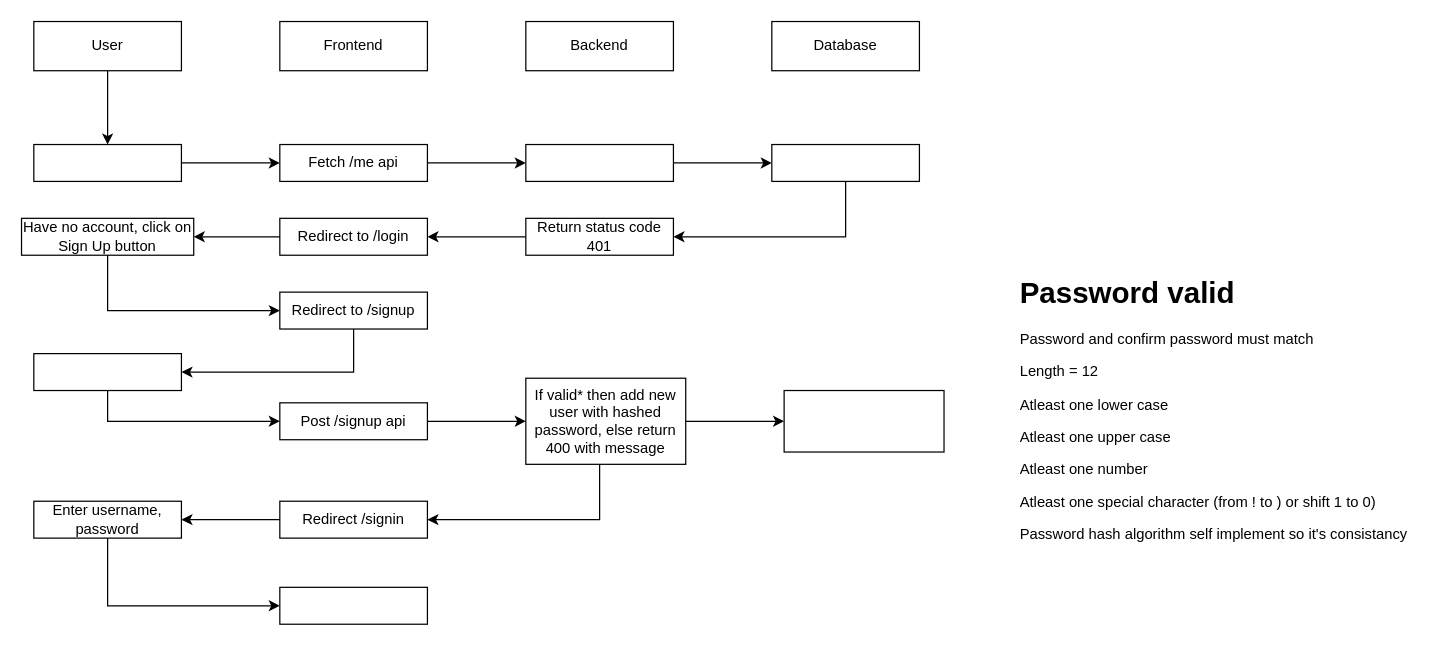
Image size: 1445x646. Some labels were removed from this diagram. The centre of each missing label's shape, as x and y in pixels:
Enter username, confirm password: [107,371]
Go to app website: [107,162]
No row found: [845,162]
Redirect to /: [353,605]
Save new user: [863,420]
Select table sessions: [599,162]
